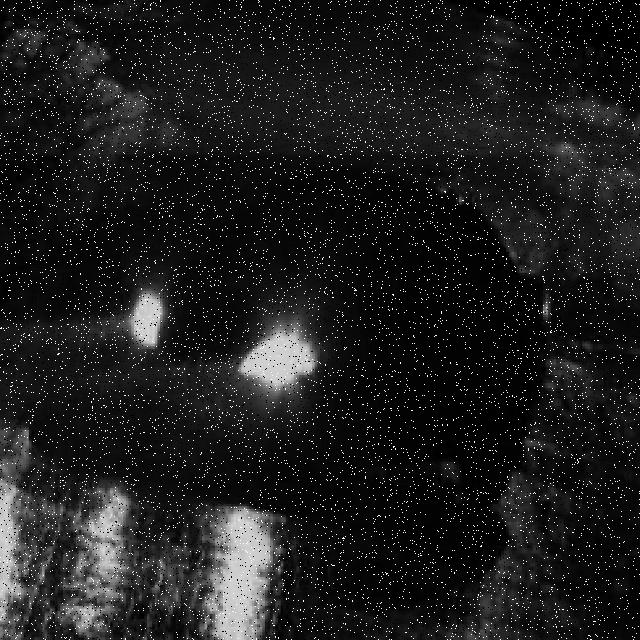ice-road: (0, 156, 640, 640)
